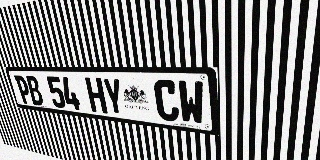4: (59, 77, 81, 110)
5: (46, 76, 67, 109)
B: (25, 76, 45, 106)
C: (153, 79, 180, 122)
H: (85, 77, 108, 114)
P: (14, 75, 33, 104)
W: (177, 80, 205, 125)
Y: (102, 78, 126, 116)
